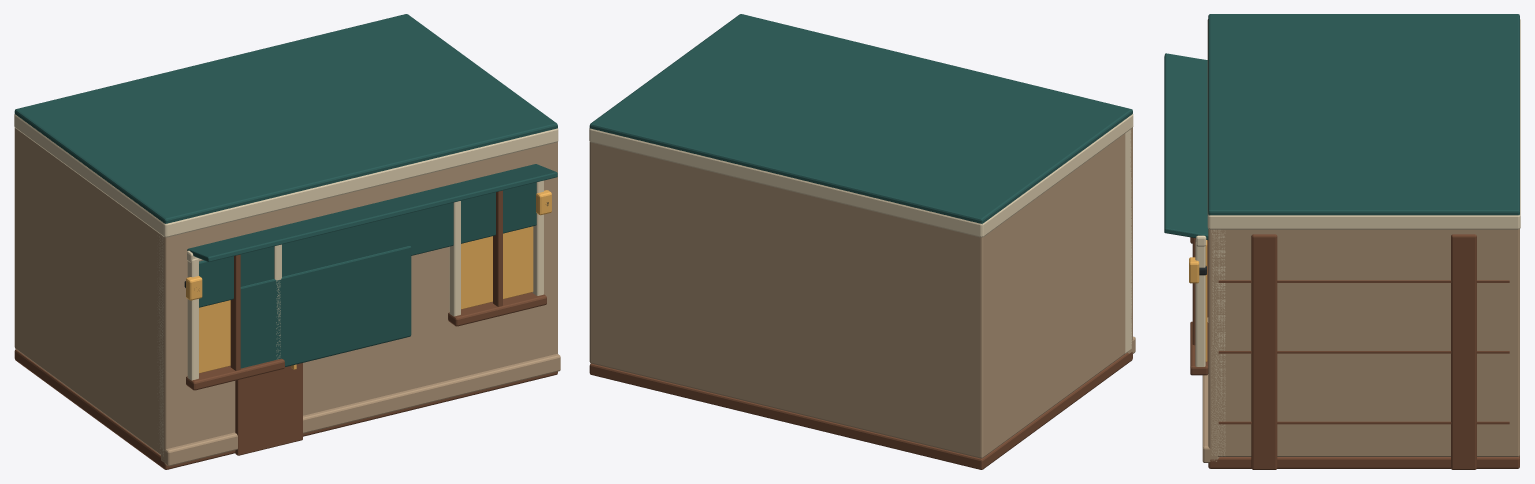
The model's file is NQ-BLD-07.glb.
3 renders of one model, left to right at view 1: azimuth 30°, elevation 25°; view 2: azimuth 150°, elevation 25°; view 3: azimuth 270°, elevation 25°, orthographic. The views are drawn at different scales.
Parts seen in each view (by area): view 1: ClosedSupportingVolume, Roof_RemoveForInteriorReview, TicketHatch, NQ-SGN-07, FrontAwning, PlinthBand, CreamRoofCornice, WalnutDoorLeaf, WindowGraphicProxy.001, Floor, CreamSideCornice, WindowGraphicProxy (+8 smaller); view 2: ClosedSupportingVolume, Roof_RemoveForInteriorReview, Floor, CreamRoofCornice.001, CreamSideCornice, CornerTrim; view 3: Roof_RemoveForInteriorReview, ClosedSupportingVolume, FrontAwning, SideBrickPilaster, SideBrickPilaster.001, CreamSideCornice.001, Floor, CornerTrim.001, WindowJamb.003, SideMasonryCourse, SideMasonryCourse.001, SideMasonryCourse.002 (+3 smaller).
Part boxes in pixels (bbox=[...]): ClosedSupportingVolume: bbox=[14, 128, 557, 455]; Roof_RemoveForInteriorReview: bbox=[14, 14, 557, 223]; TicketHatch: bbox=[240, 246, 411, 368]; NQ-SGN-07: bbox=[199, 182, 536, 307]; FrontAwning: bbox=[187, 164, 557, 261]; PlinthBand: bbox=[161, 354, 560, 466]; CreamRoofCornice: bbox=[165, 128, 558, 237]; WalnutDoorLeaf: bbox=[235, 363, 302, 455]; WindowGraphicProxy.001: bbox=[461, 226, 533, 309]; Floor: bbox=[14, 349, 557, 469]; CreamSideCornice: bbox=[14, 114, 165, 237]; WindowGraphicProxy: bbox=[199, 300, 230, 373]; ClosedSupportingVolume: bbox=[589, 128, 1132, 458]; Roof_RemoveForInteriorReview: bbox=[589, 14, 1132, 223]; Floor: bbox=[589, 352, 1132, 469]; CreamRoofCornice.001: bbox=[589, 128, 982, 237]; CreamSideCornice: bbox=[982, 114, 1133, 237]; CornerTrim: bbox=[1125, 129, 1131, 353]; Roof_RemoveForInteriorReview: bbox=[1208, 14, 1519, 215]; ClosedSupportingVolume: bbox=[1208, 229, 1519, 456]; FrontAwning: bbox=[1164, 53, 1208, 239]; SideBrickPilaster: bbox=[1251, 234, 1277, 469]; SideBrickPilaster.001: bbox=[1451, 234, 1476, 469]; CreamSideCornice.001: bbox=[1208, 215, 1519, 229]; Floor: bbox=[1208, 456, 1519, 468]; CornerTrim.001: bbox=[1211, 230, 1225, 456]; WindowJamb.003: bbox=[1195, 239, 1205, 366]; SideMasonryCourse: bbox=[1218, 421, 1509, 424]; SideMasonryCourse.001: bbox=[1218, 351, 1509, 353]; SideMasonryCourse.002: bbox=[1218, 280, 1509, 282].
Bounding box in the file's own units: 18.12 × 11 × 13.72.
